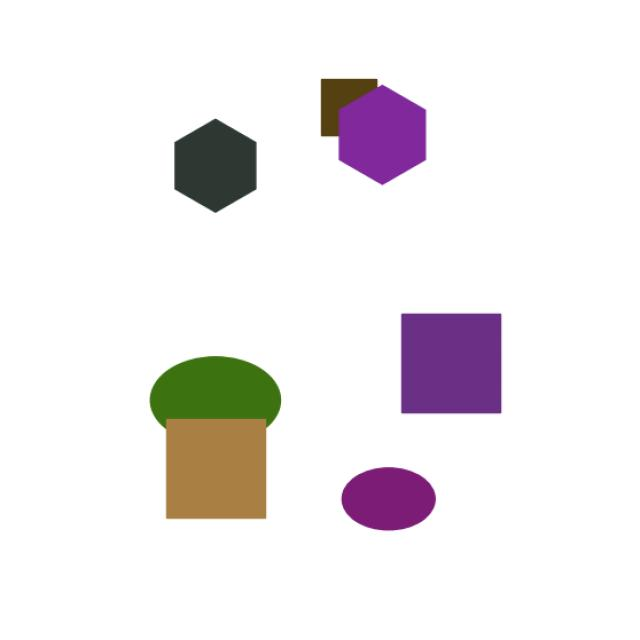Hexagon: (156, 108, 268, 224), (339, 80, 432, 189)
Oval: (139, 359, 298, 457), (328, 452, 449, 548)
square: (381, 298, 519, 448), (156, 414, 291, 536), (311, 72, 409, 150)
